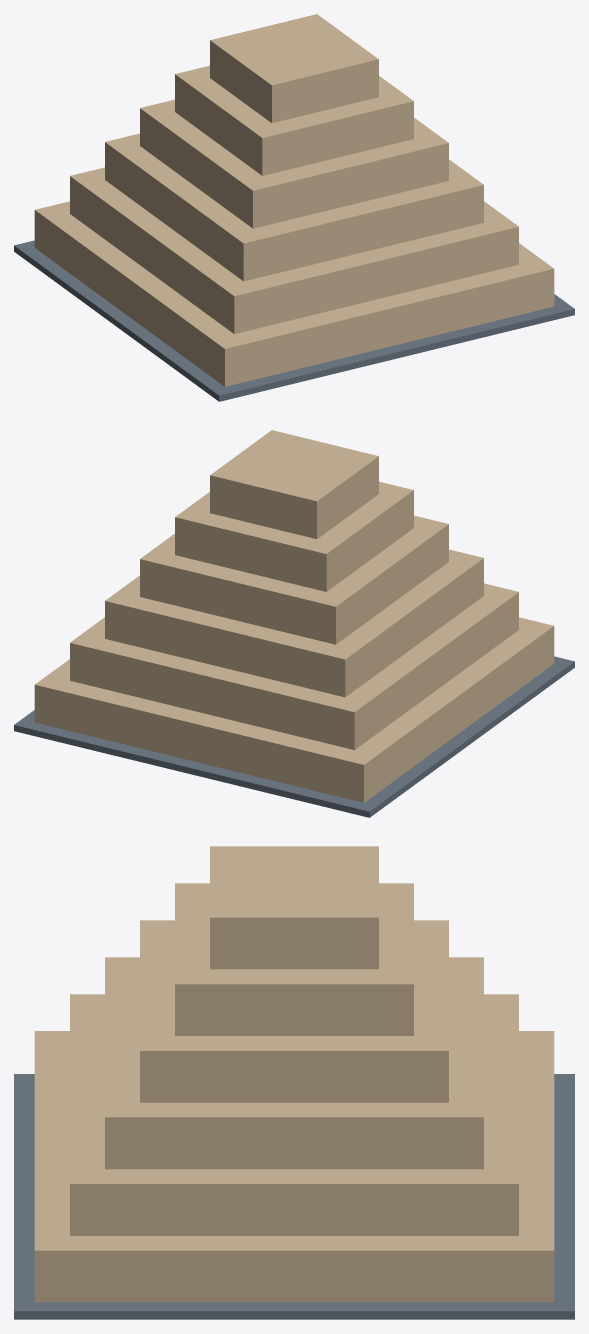
The model's file is sample.glb.
3 renders of one model, top to bottom at view 1: azimuth 30°, elevation 25°; view 2: azimuth 150°, elevation 25°; view 3: azimuth 270°, elevation 25°, orthographic. The views are drawn at different scales.
Parts seen in each view (by area): view 1: tier_1, tier_2, tier_3, tier_4, tier_5, tier_6, DISPLAY_plinth; view 2: tier_1, tier_2, tier_3, tier_4, tier_5, tier_6, DISPLAY_plinth; view 3: tier_1, tier_2, tier_3, tier_4, tier_5, tier_6, DISPLAY_plinth.
Boxes of the visible parts, left/top/right/bottom form: tier_1: left=34, top=201, right=554, bottom=386; tier_2: left=70, top=167, right=518, bottom=333; tier_3: left=105, top=133, right=483, bottom=281; tier_4: left=140, top=99, right=448, bottom=228; tier_5: left=175, top=65, right=413, bottom=175; tier_6: left=210, top=14, right=378, bottom=122; DISPLAY_plinth: left=14, top=240, right=574, bottom=401; tier_1: left=34, top=617, right=554, bottom=802; tier_2: left=70, top=583, right=518, bottom=749; tier_3: left=105, top=549, right=483, bottom=697; tier_4: left=140, top=515, right=448, bottom=644; tier_5: left=175, top=481, right=413, bottom=591; tier_6: left=210, top=430, right=378, bottom=538; DISPLAY_plinth: left=14, top=656, right=574, bottom=817; tier_1: left=34, top=1031, right=554, bottom=1302; tier_2: left=70, top=994, right=518, bottom=1235; tier_3: left=105, top=957, right=483, bottom=1169; tier_4: left=140, top=920, right=448, bottom=1102; tier_5: left=175, top=883, right=413, bottom=1035; tier_6: left=210, top=846, right=378, bottom=969; DISPLAY_plinth: left=14, top=1074, right=574, bottom=1319.
Size of the model in its own units: 10.8 by 6.78 by 10.8.
